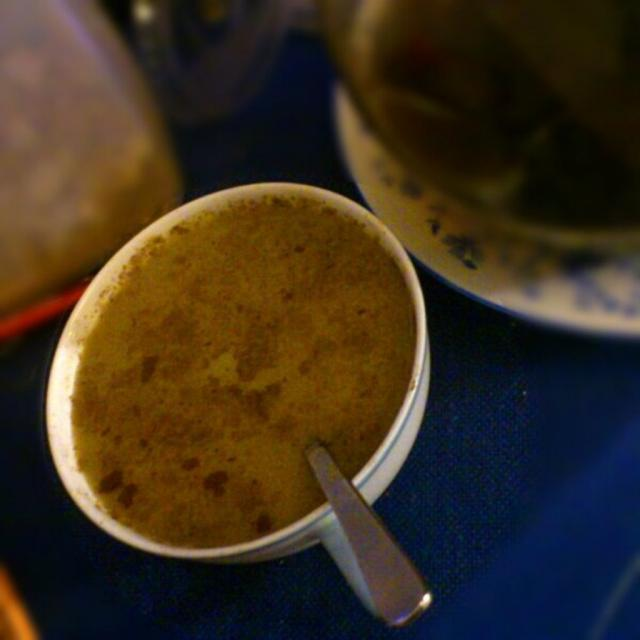Coffee: (72, 197, 416, 547)
